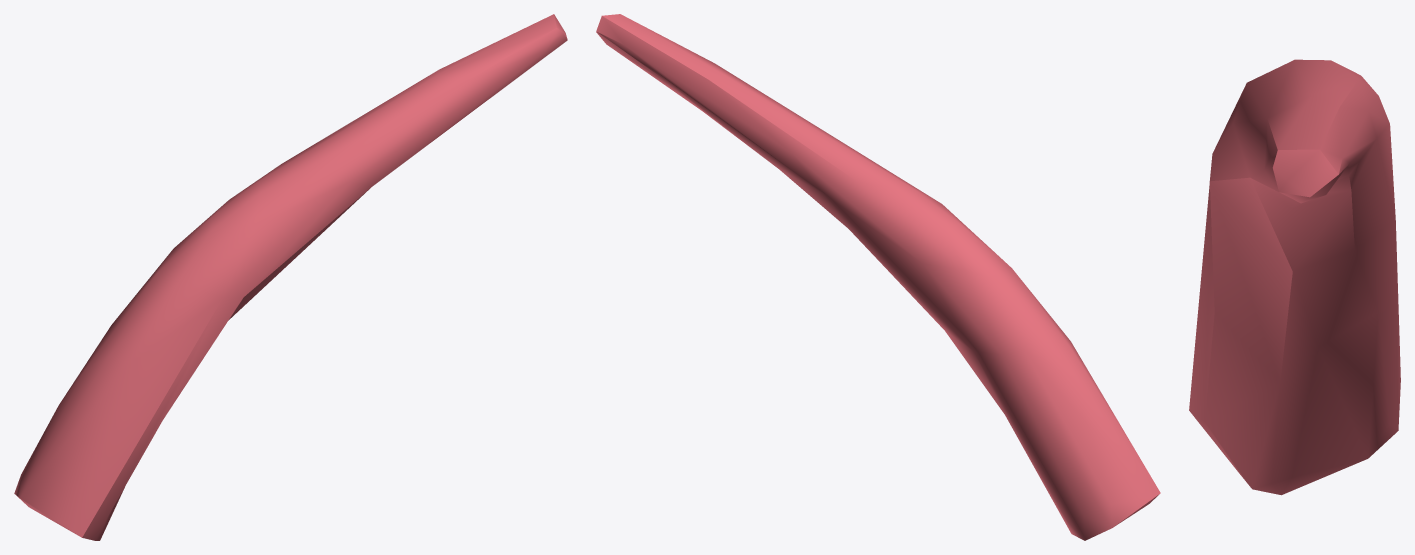
File: fma68135_fj5960.glb
The picture shows the model from 3 angles, left to right: view 1: azimuth 30°, elevation 25°; view 2: azimuth 150°, elevation 25°; view 3: azimuth 270°, elevation 25°; orthographic projection. The views are drawn at different scales.
Visible parts, largest first — view 1: FMA68135_FJ5960; view 2: FMA68135_FJ5960; view 3: FMA68135_FJ5960.
Boxes of the visible parts, x1=… form: FMA68135_FJ5960: x1=14, y1=14, x2=567, y2=540; FMA68135_FJ5960: x1=596, y1=14, x2=1160, y2=540; FMA68135_FJ5960: x1=1189, y1=59, x2=1400, y2=495.
Bounding box in the file's own units: 0.0214 × 0.0149 × 0.00356.
